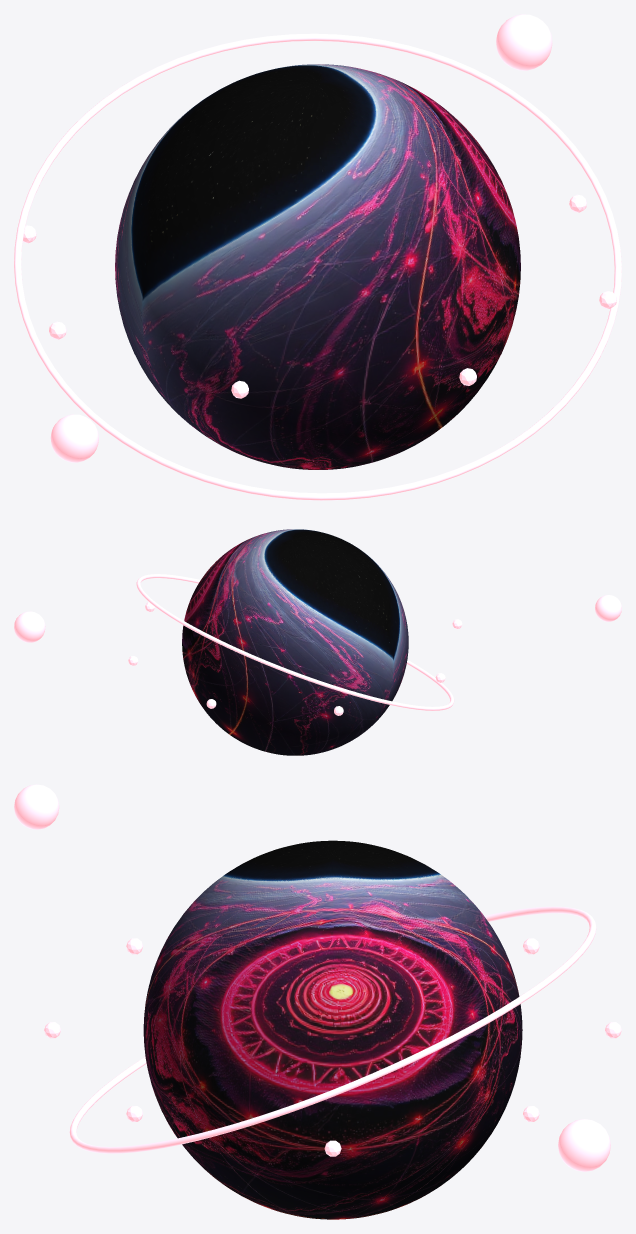
File: nebula_sanctum.glb
3 renders of one model, top to bottom at view 1: azimuth 30°, elevation 25°; view 2: azimuth 150°, elevation 25°; view 3: azimuth 270°, elevation 25°, orthographic. The views are drawn at different scales.
Visible parts, largest first — view 1: Planet_nebula_sanctum, OrbitalRing_nebula_sanctum, Moon_0, Moon_1; view 2: Planet_nebula_sanctum, OrbitalRing_nebula_sanctum, Moon_0, Moon_1; view 3: Planet_nebula_sanctum, OrbitalRing_nebula_sanctum, Moon_0, Moon_1.
Boxes of the visible parts, bbox=[...] form: Planet_nebula_sanctum: bbox=[115, 64, 520, 469]; OrbitalRing_nebula_sanctum: bbox=[14, 33, 621, 500]; Moon_0: bbox=[496, 14, 552, 70]; Moon_1: bbox=[50, 414, 98, 462]; Planet_nebula_sanctum: bbox=[182, 529, 408, 755]; OrbitalRing_nebula_sanctum: bbox=[136, 574, 454, 710]; Moon_0: bbox=[14, 611, 45, 642]; Moon_1: bbox=[595, 595, 621, 621]; Planet_nebula_sanctum: bbox=[143, 840, 522, 1219]; OrbitalRing_nebula_sanctum: bbox=[69, 906, 596, 1153]; Moon_0: bbox=[558, 1119, 610, 1171]; Moon_1: bbox=[14, 784, 59, 829].
Size of the model in its own units: 4.49 by 2 by 3.21.
2 materials, 1 textured.
